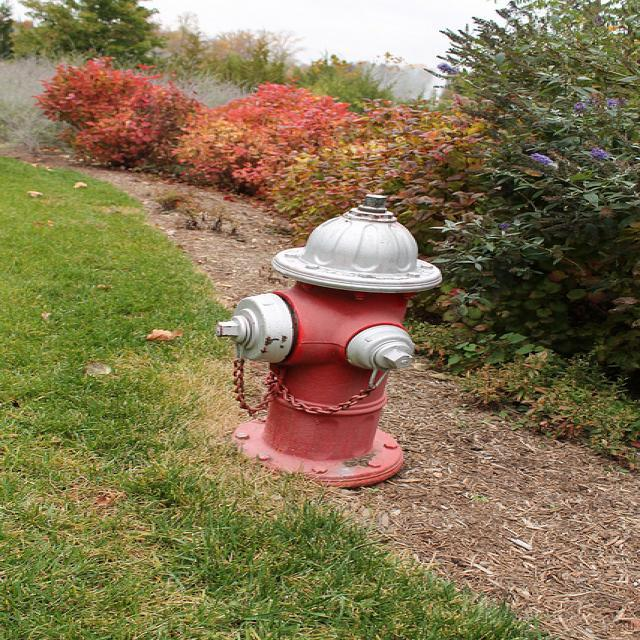fire_hydrant: (216, 195, 442, 487)
